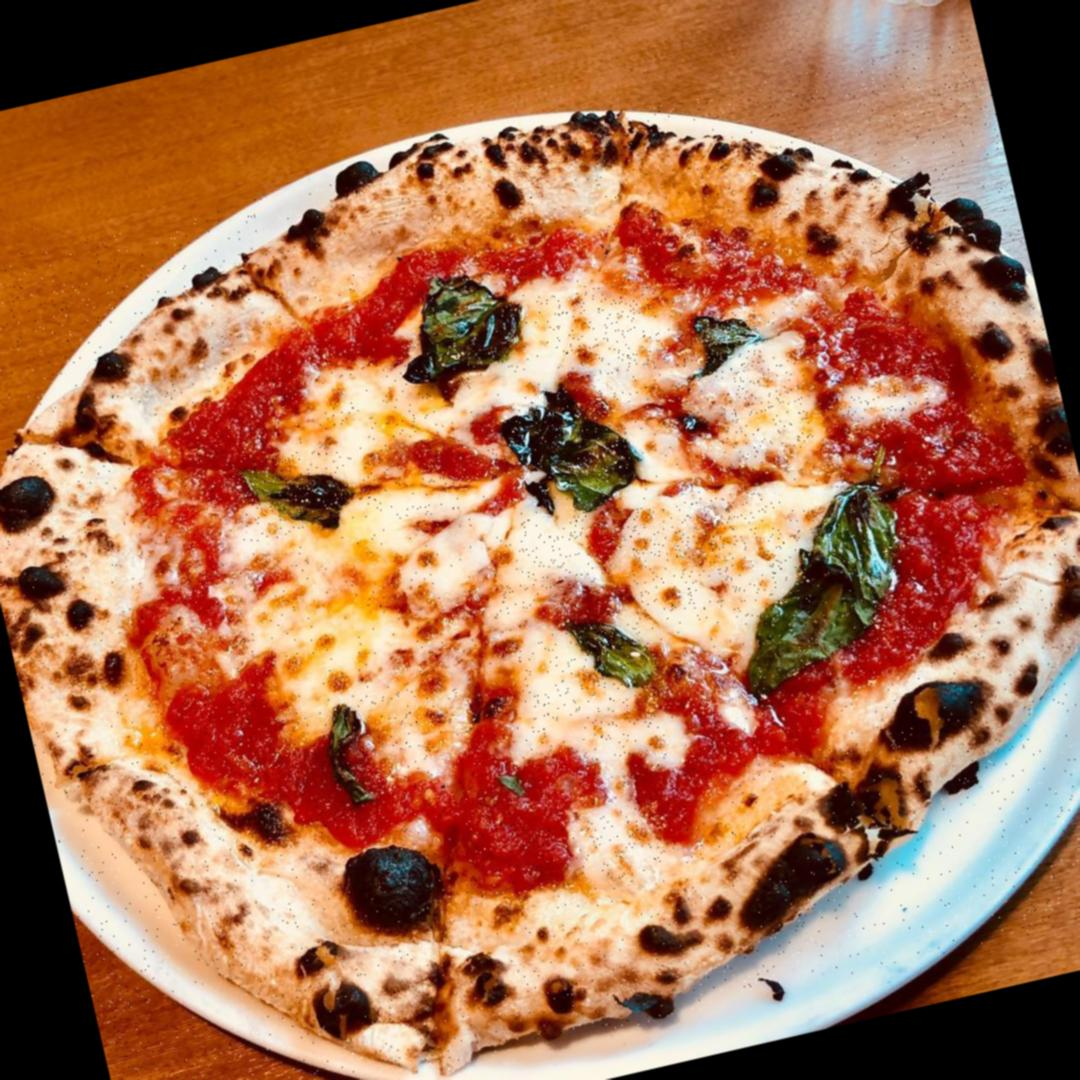Basil: (712, 474, 934, 709), (492, 380, 642, 527), (417, 266, 550, 390), (228, 441, 356, 545), (566, 608, 662, 700), (674, 304, 767, 385)
Cheese: (266, 529, 481, 705), (512, 614, 668, 778), (617, 479, 791, 624), (334, 354, 462, 531), (538, 272, 666, 386), (484, 508, 620, 614), (704, 351, 814, 465), (364, 680, 474, 780), (571, 795, 666, 886), (836, 364, 936, 437)
Pizza: (0, 32, 1080, 1080)
